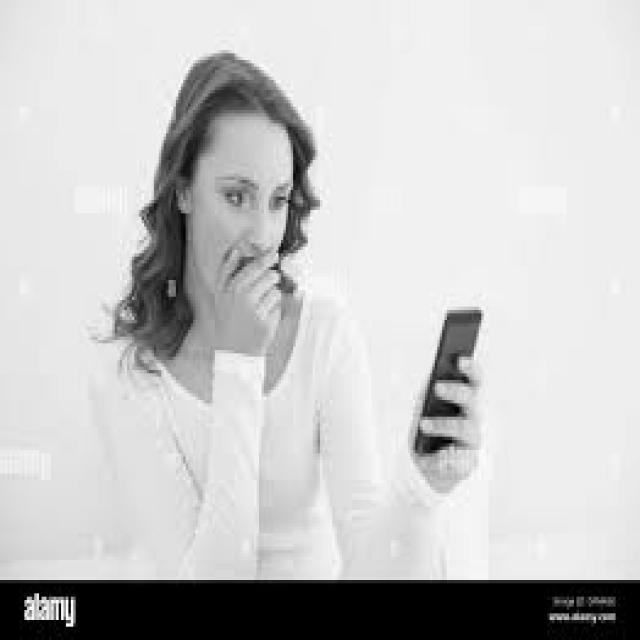No gun_phone: (414, 311, 484, 456)
